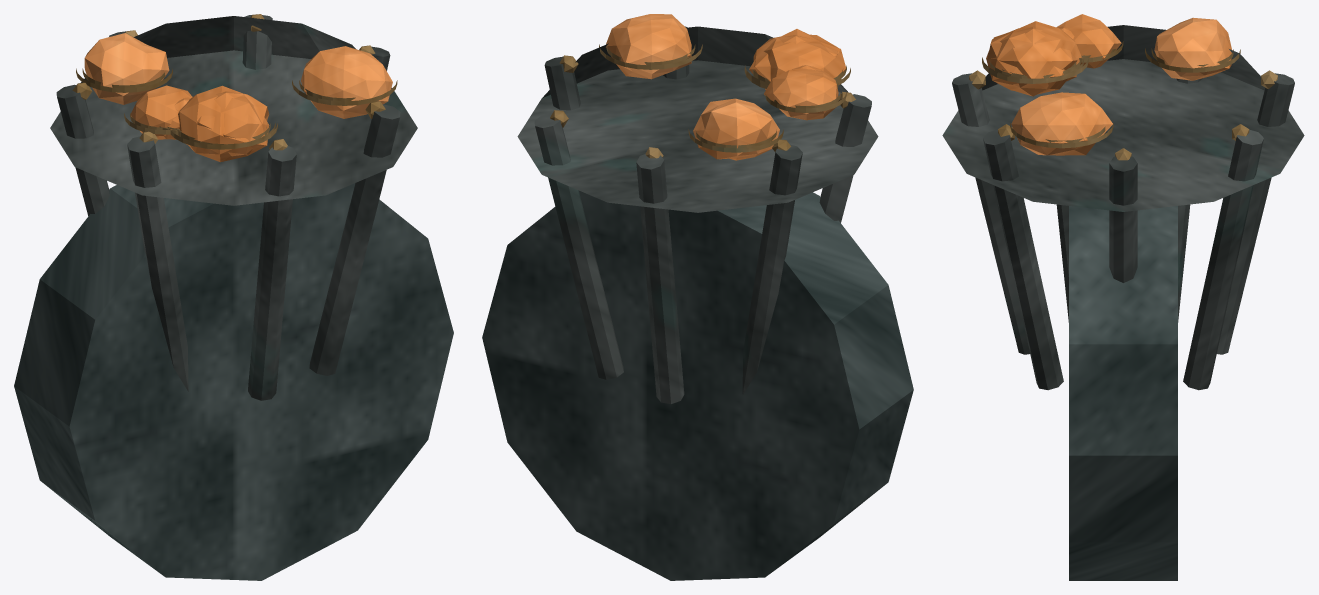
The model's file is 0543_brazier_18.glb.
3 renders of one model, left to right at view 1: azimuth 30°, elevation 25°; view 2: azimuth 150°, elevation 25°; view 3: azimuth 270°, elevation 25°, orthographic.
Visible parts, largest first — view 1: stone_dark, iron, amber, brass; view 2: stone_dark, iron, amber, brass; view 3: iron, stone_dark, amber, brass.
Boxes of the visible parts, x1,y1,x2,y2 form: stone_dark: (14, 183, 453, 580); iron: (50, 15, 417, 400); amber: (84, 33, 392, 162); brass: (72, 14, 397, 150); stone_dark: (482, 190, 913, 580); iron: (517, 26, 878, 403); amber: (605, 14, 845, 160); brass: (550, 44, 855, 158); iron: (942, 25, 1304, 390); stone_dark: (1069, 206, 1177, 580); amber: (986, 14, 1231, 155); brass: (969, 41, 1277, 160).
Size of the model in its own units: 1.4 by 1.79 by 1.16.
Materials: 4 (4 with a texture image).
